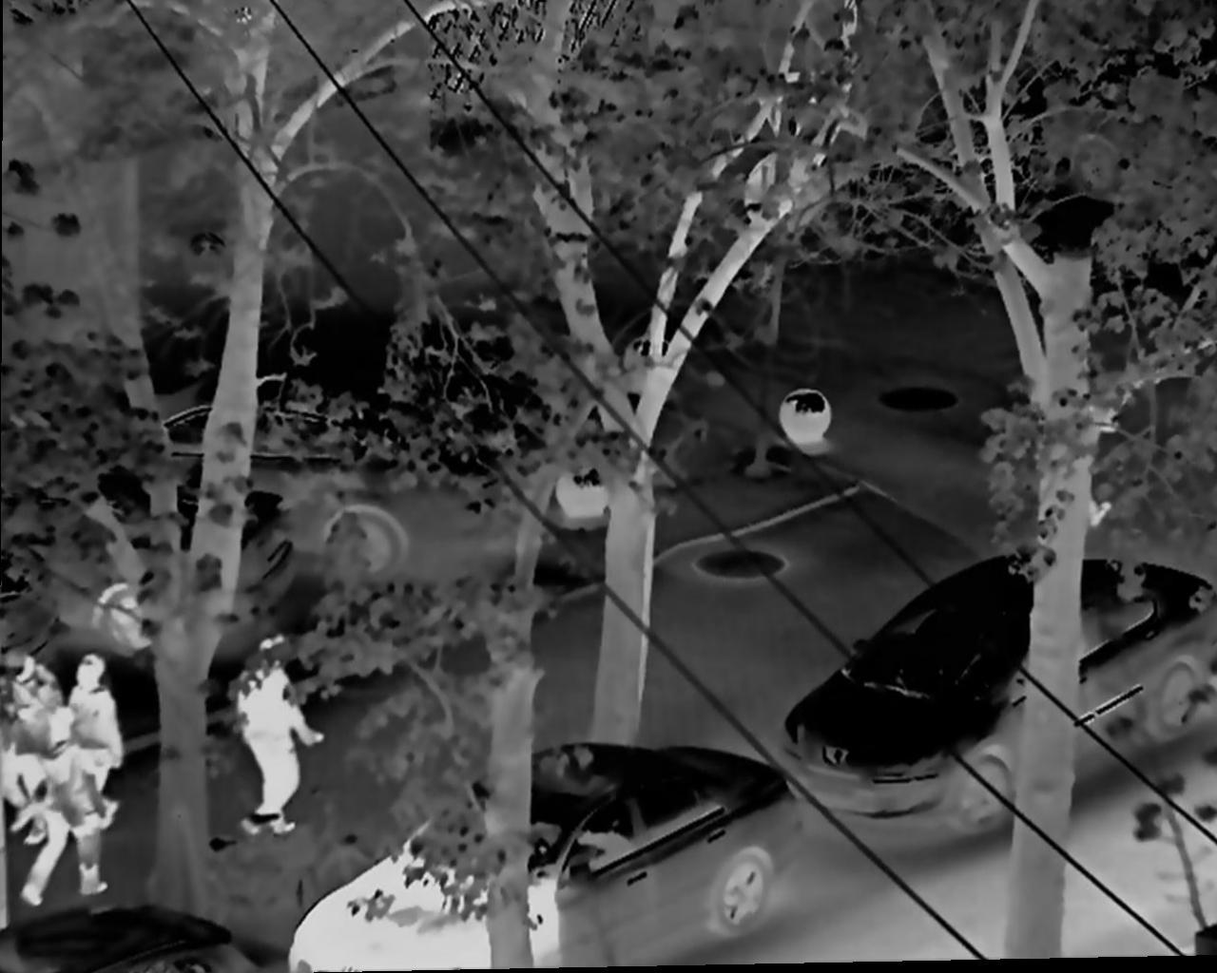person: (232, 637, 324, 845), (32, 720, 112, 904), (4, 644, 65, 849), (75, 647, 133, 830)
